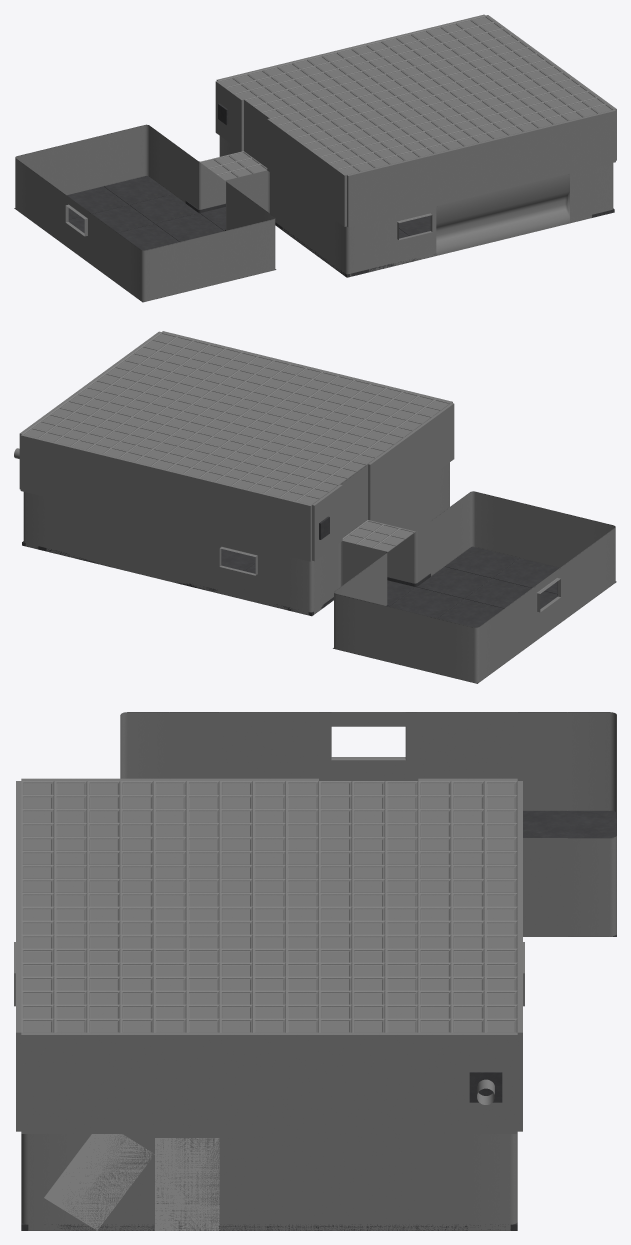
Rendered from modular-demo.gltf.
The picture shows the model from 3 angles, top to bottom: view 1: azimuth 30°, elevation 25°; view 2: azimuth 150°, elevation 25°; view 3: azimuth 270°, elevation 25°; orthographic projection. The views are drawn at different scales.
Parts seen in each view (by area): view 1: Plane.035, Cube.063, Cube.067, Cube.062, Cube.064, Cube.065, Cube.066, Plane.083, Plane.082, Plane.075, Plane.034, Plane.081 (+66 smaller); view 2: Cube.043, Cube.047, Cube.048, Cube.044, Cube.046, Cube.045, Plane.083, Plane.082, Plane.042, Plane.063, Plane.090, Plane.080 (+68 smaller); view 3: Cube.072, Cube.071, Cube.073, Cube.076, Plane.045, Plane.067, Cube.077, Plane.078, Plane.079, Storage.001, Plane.068, Storage.002 (+45 smaller).
Part boxes in pixels (x1,y1,x2,y2): Plane.035: [436, 173, 569, 255]; Cube.063: [525, 120, 571, 183]; Cube.067: [347, 164, 392, 227]; Cube.062: [570, 110, 615, 172]; Cube.064: [481, 131, 526, 194]; Cube.065: [436, 142, 481, 205]; Cube.066: [392, 153, 437, 216]; Plane.083: [58, 135, 103, 195]; Plane.082: [187, 229, 231, 291]; Plane.075: [125, 124, 160, 184]; Plane.034: [391, 206, 436, 266]; Plane.081: [130, 242, 164, 301]; Cube.043: [262, 493, 311, 561]; Cube.047: [69, 446, 118, 514]; Cube.048: [20, 434, 69, 502]; Cube.044: [214, 481, 263, 549]; Cube.046: [117, 458, 166, 526]; Cube.045: [165, 469, 214, 537]; Plane.083: [380, 605, 428, 671]; Plane.082: [520, 502, 568, 567]; Plane.042: [118, 515, 166, 580]; Plane.063: [70, 503, 118, 568]; Plane.090: [167, 527, 215, 592]; Plane.080: [453, 618, 491, 683]; Cube.072: [120, 1032, 219, 1133]; Cube.071: [21, 1032, 120, 1133]; Cube.073: [219, 1032, 318, 1133]; Cube.076: [319, 1032, 418, 1133]; Plane.045: [319, 1134, 418, 1230]; Plane.067: [219, 1134, 318, 1230]; Cube.077: [418, 1032, 517, 1133]; Plane.078: [219, 712, 318, 778]; Plane.079: [418, 712, 517, 778]; Storage.001: [155, 1138, 219, 1230]; Plane.068: [120, 1134, 219, 1230]; Storage.002: [44, 1134, 154, 1230].
Size of the model in its own units: 20.74 by 4.4 by 12.14.
9 materials, 2 textured.
